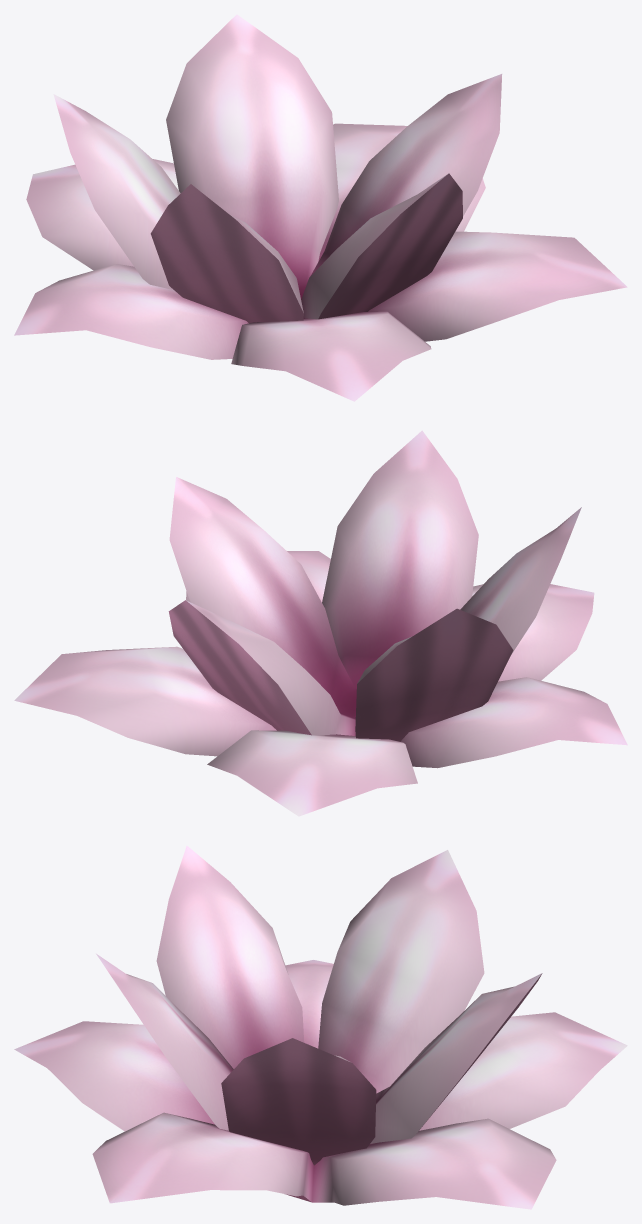
File: lotus3.fbx
The picture shows the model from 3 angles, top to bottom: view 1: azimuth 30°, elevation 25°; view 2: azimuth 150°, elevation 25°; view 3: azimuth 270°, elevation 25°; orthographic projection. The views are drawn at different scales.
Parts seen in each view (by area): view 1: lotus3; view 2: lotus3; view 3: lotus3.
Part boxes in pixels (x1,y1,x2,y2): lotus3: [14, 14, 627, 401]; lotus3: [14, 430, 627, 816]; lotus3: [14, 845, 627, 1209].
Bounding box in the file's own units: 4.8 × 2.16 × 4.99.
1 material, 1 textured.
